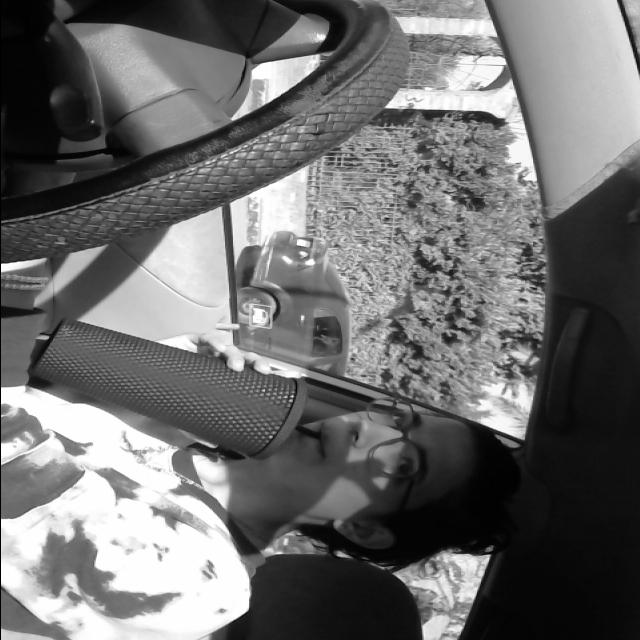drinking: (26, 312, 324, 468)
